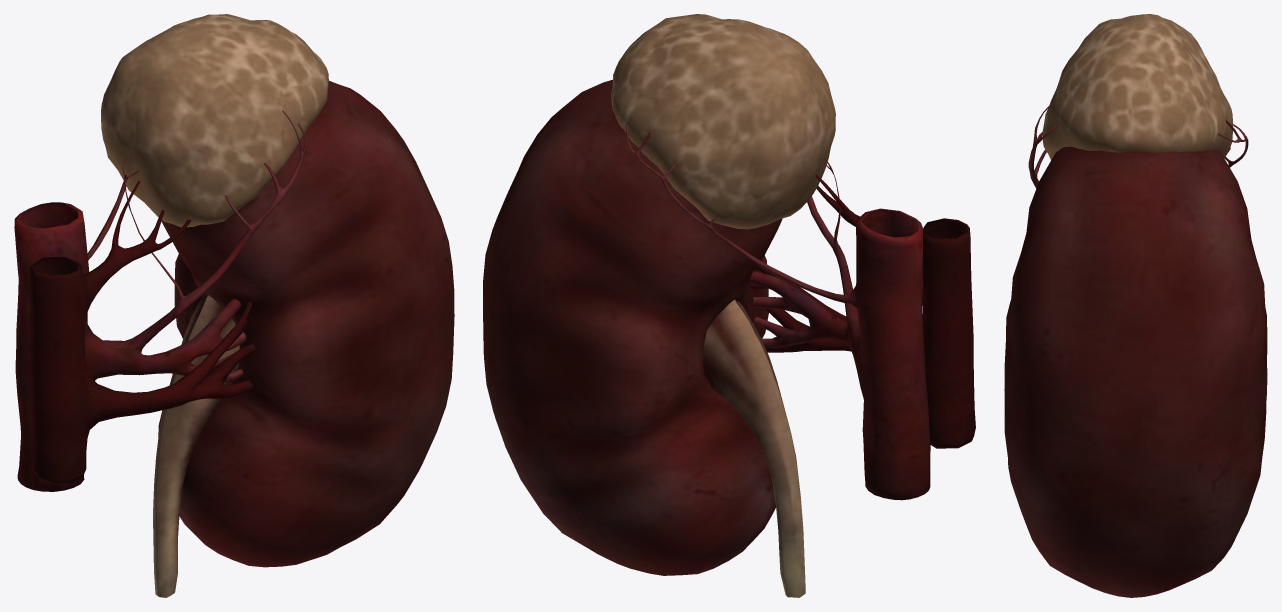
The model's file is healthy-kidney.glb.
The picture shows the model from 3 angles, left to right: view 1: azimuth 30°, elevation 25°; view 2: azimuth 150°, elevation 25°; view 3: azimuth 270°, elevation 25°; orthographic projection. The views are drawn at different scales.
Parts seen in each view (by area): view 1: Kidney; view 2: Kidney; view 3: Kidney.
Boxes of the visible parts, box(x1,y1,x2,y2) form: Kidney: box(14, 14, 454, 597); Kidney: box(483, 14, 975, 597); Kidney: box(1004, 14, 1267, 597).
Size of the model in its own units: 1.86 by 2.28 by 1.02.
1 material, 1 textured.
